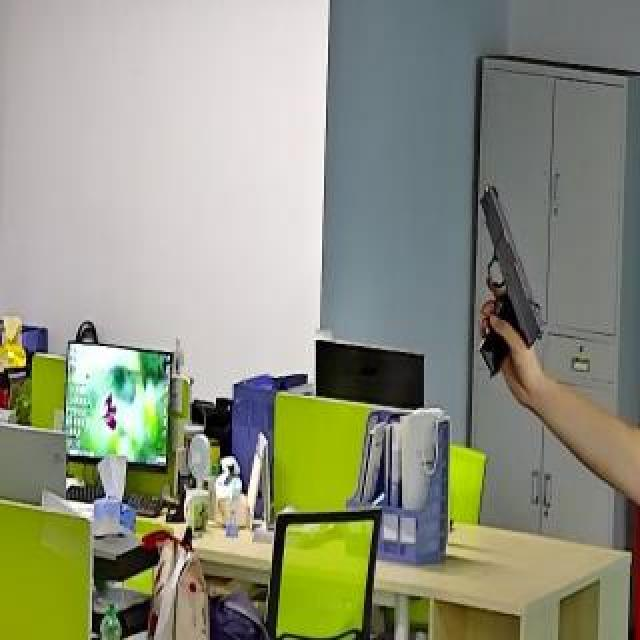Guns: (458, 170, 572, 400)
